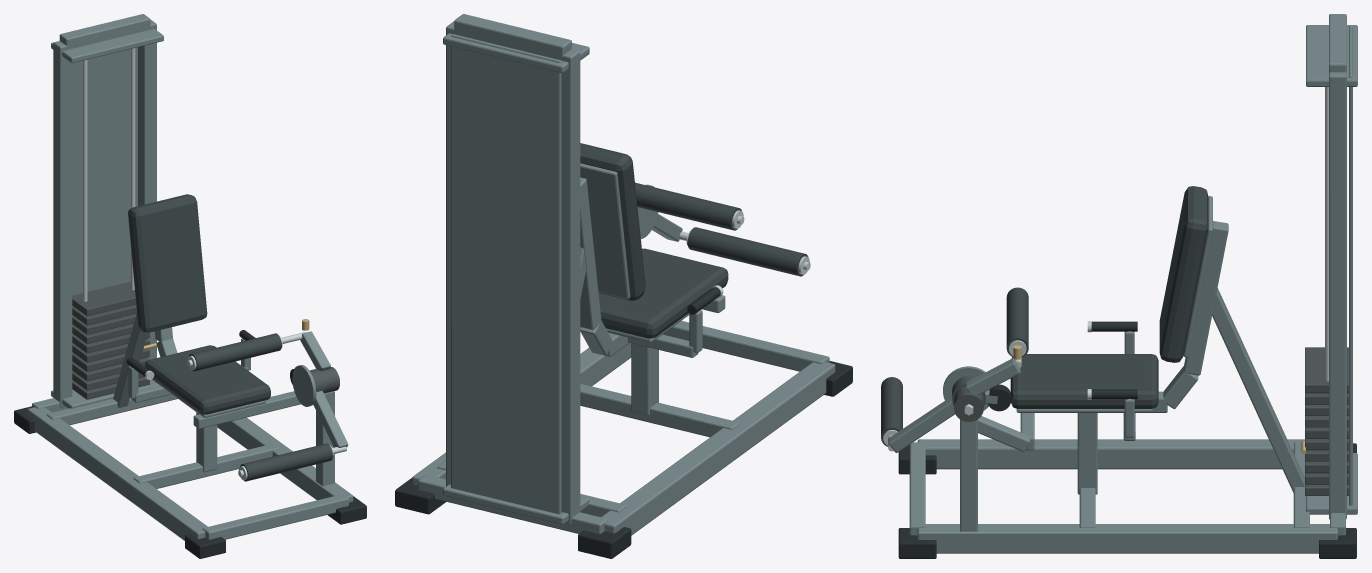
Rendered from leg-curl-machine.v1.glb.
3 views of the same model, side by side, from view 1: azimuth 30°, elevation 25°; view 2: azimuth 150°, elevation 25°; view 3: azimuth 270°, elevation 25° (orthographic). The views are drawn at different scales.
Visible parts, largest first — view 1: Back pad backing, Back cushion, Moving stack plate, Handle end cap, Floor shoe, Roller pad, Cam arm; view 2: Back pad backing, Back cushion, Floor shoe, Roller pad, Cam arm; view 3: Back pad backing, Back cushion, Moving stack plate, Floor shoe, Cam arm, Handle end cap, Roller pad, Bearing housing.
Boxes of the visible parts, x1,y1,x2,y2 form: Back pad backing: (27, 14, 353, 540); Back cushion: (128, 194, 281, 414); Moving stack plate: (72, 281, 149, 399); Handle end cap: (83, 48, 339, 380); Floor shoe: (14, 330, 366, 558); Roller pad: (240, 443, 332, 481); Cam arm: (292, 365, 348, 447); Back pad backing: (412, 14, 835, 535); Back cushion: (580, 143, 741, 338); Floor shoe: (395, 287, 852, 558); Roller pad: (687, 227, 808, 276); Cam arm: (637, 184, 682, 241); Back pad backing: (909, 14, 1357, 553); Back cushion: (1006, 186, 1208, 408); Moving stack plate: (1305, 347, 1348, 495); Floor shoe: (898, 321, 1356, 558); Cam arm: (888, 366, 997, 452); Handle end cap: (964, 87, 1328, 415); Roller pad: (881, 377, 902, 446); Bearing housing: (954, 386, 983, 421).
Size of the model in its own units: 1.19 by 2.59 by 2.38.
